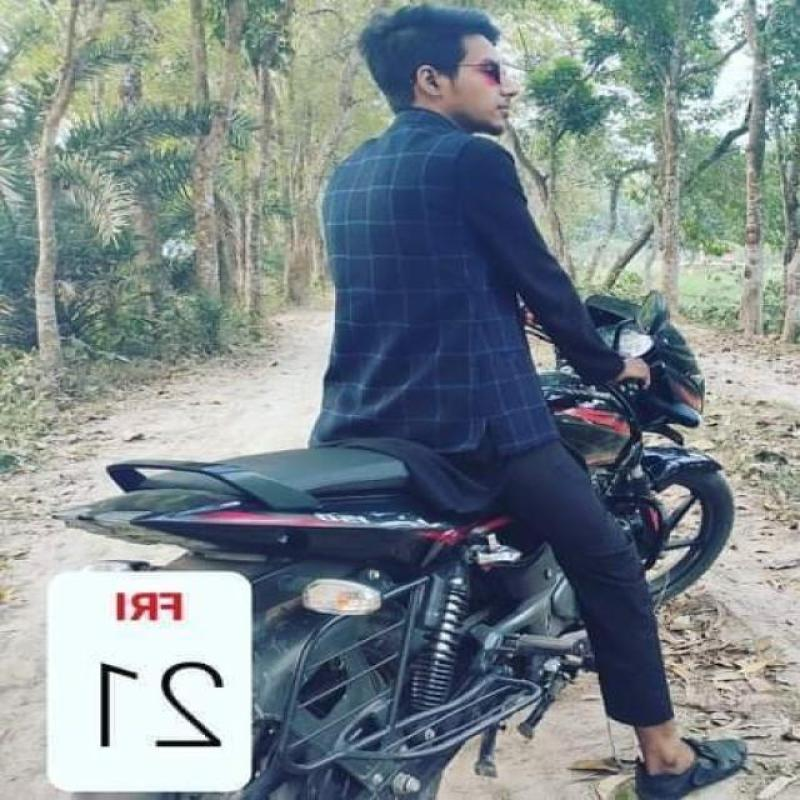nohelmet: (349, 0, 532, 131)
